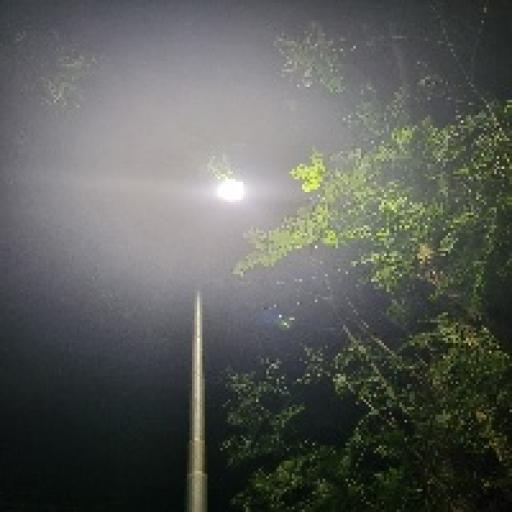Working: (206, 169, 251, 218)
